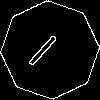I: (25, 25, 67, 69)
